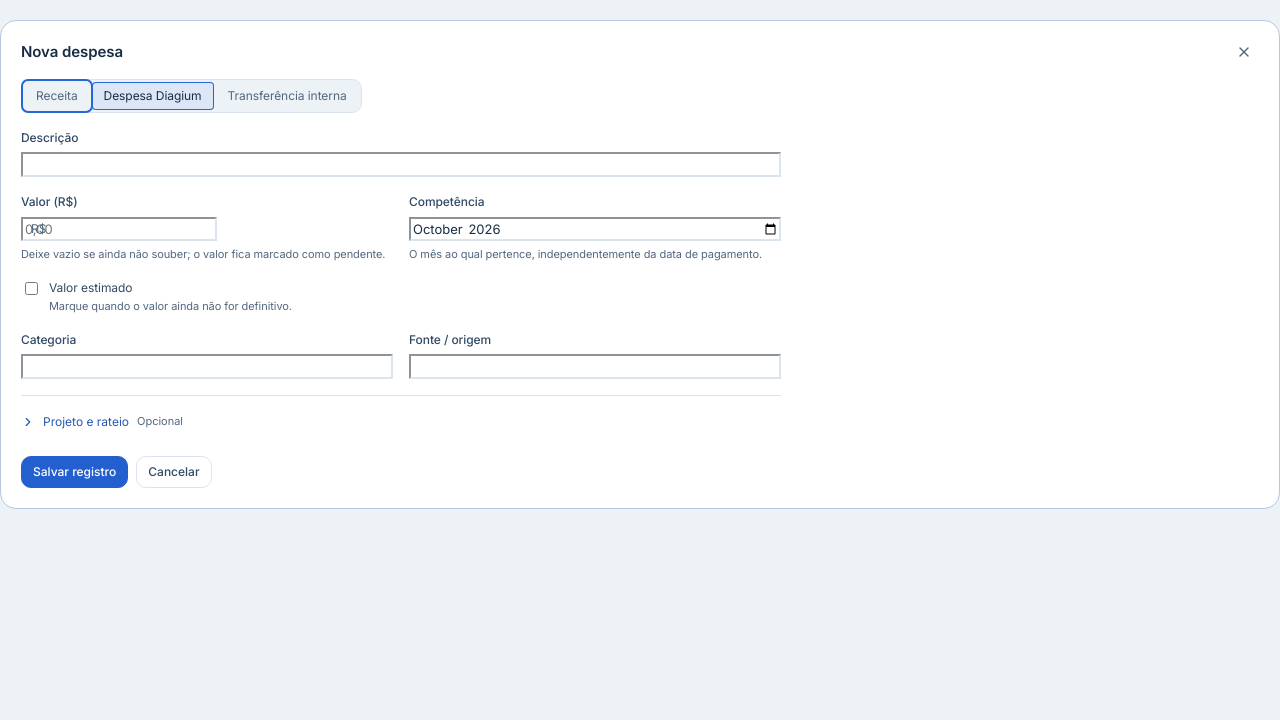
Test case: finance forms › keeps project and allocation folded on a new expense
Check: the heading "Nova despesa" is shown, box [21,41,123,63]
Click the button "Projeto e rateio Opcional" at (102,422), box [21,408,183,436]
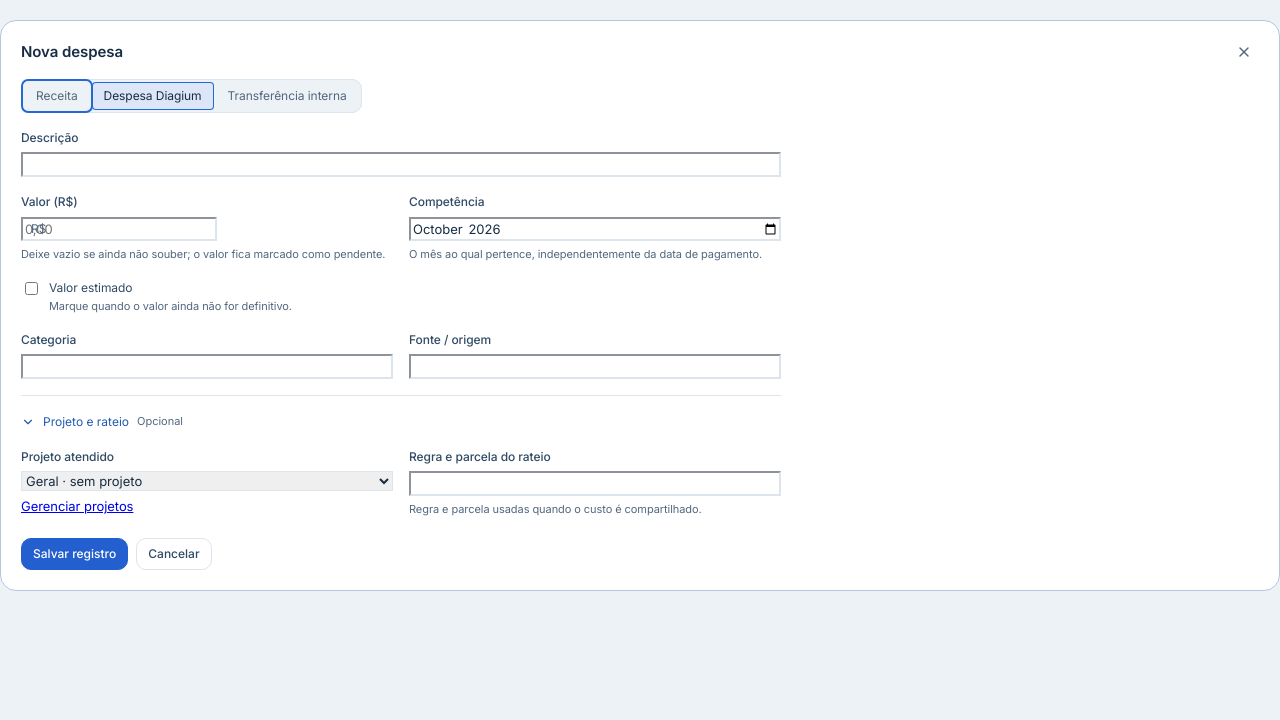
Check: the label "Projeto atendido" is shown, box [21,449,114,464]
